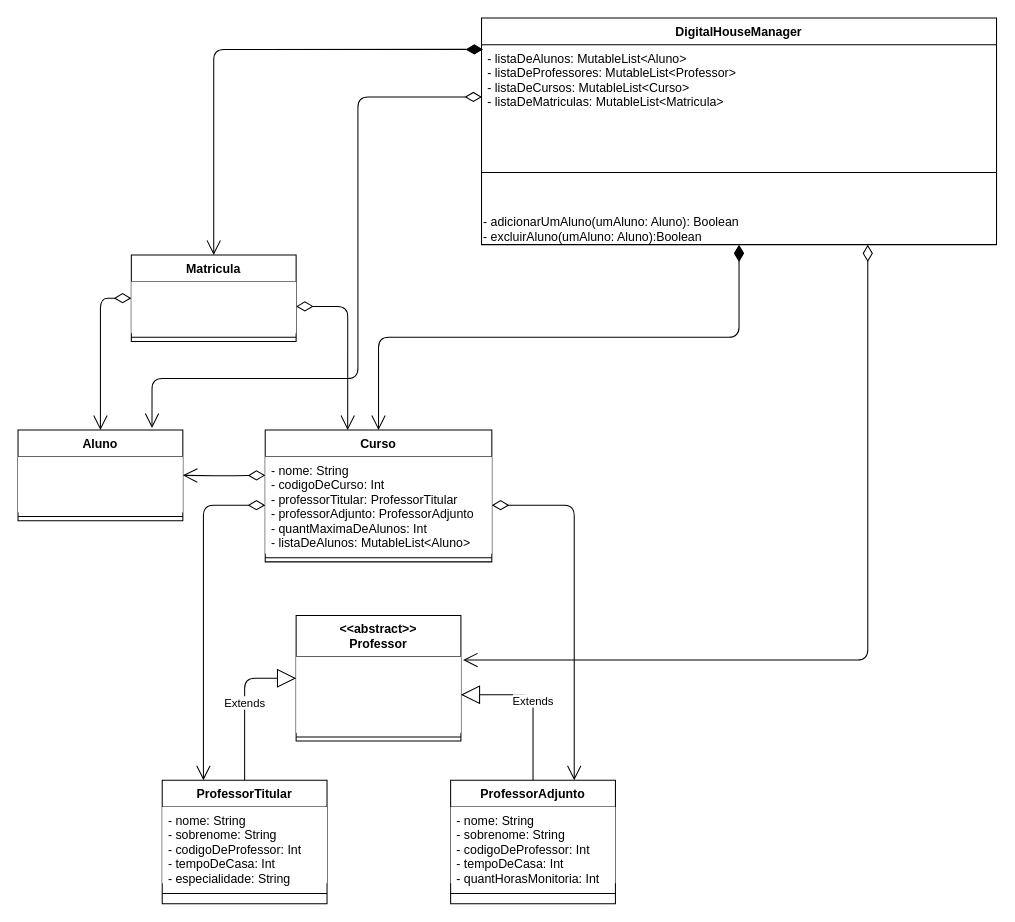
This 1015x922 diagram has some shape labels left out. The shapes that lost their labels are listed below. From the top down, each one's centre as x and y in pixels, then its label:
(x=213, y=307): - aluno: Aluno - curso: Curso - matricula: Date
(x=100, y=484): - nome: String - sobrenome: String - codigoDeAluno: Int
(x=378, y=694): - nome: String - sobrenome: String - codigoDeProfessor: Int - tempoDeCasa: Int
